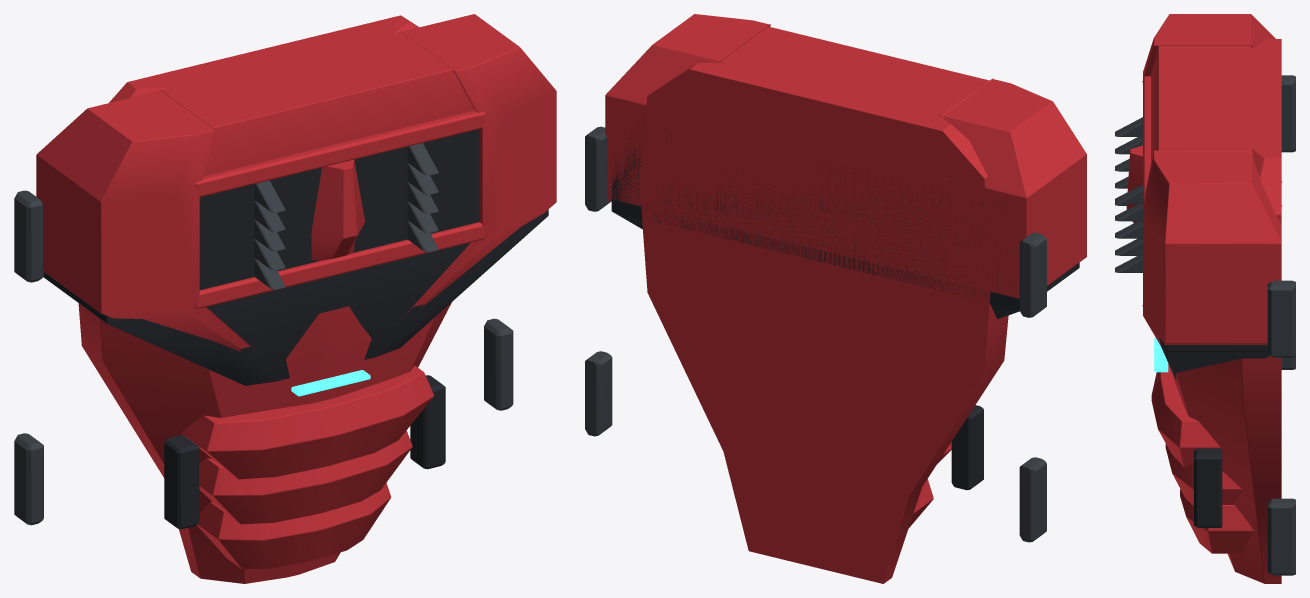
Rendered from BodyFront_Set04_Ripjaw.fbx.
The picture shows the model from 3 angles, left to right: view 1: azimuth 30°, elevation 25°; view 2: azimuth 150°, elevation 25°; view 3: azimuth 270°, elevation 25°; orthographic projection. The views are drawn at different scales.
Parts seen in each view (by area): view 1: BodyFront_Set04_Ripjaw; view 2: BodyFront_Set04_Ripjaw; view 3: BodyFront_Set04_Ripjaw.
Boxes of the visible parts, x1=… form: BodyFront_Set04_Ripjaw: x1=14, y1=14, x2=556, y2=583; BodyFront_Set04_Ripjaw: x1=585, y1=14, x2=1086, y2=583; BodyFront_Set04_Ripjaw: x1=1115, y1=14, x2=1295, y2=583.
Bounding box in the file's own units: 1.07 × 1.06 × 0.383.
